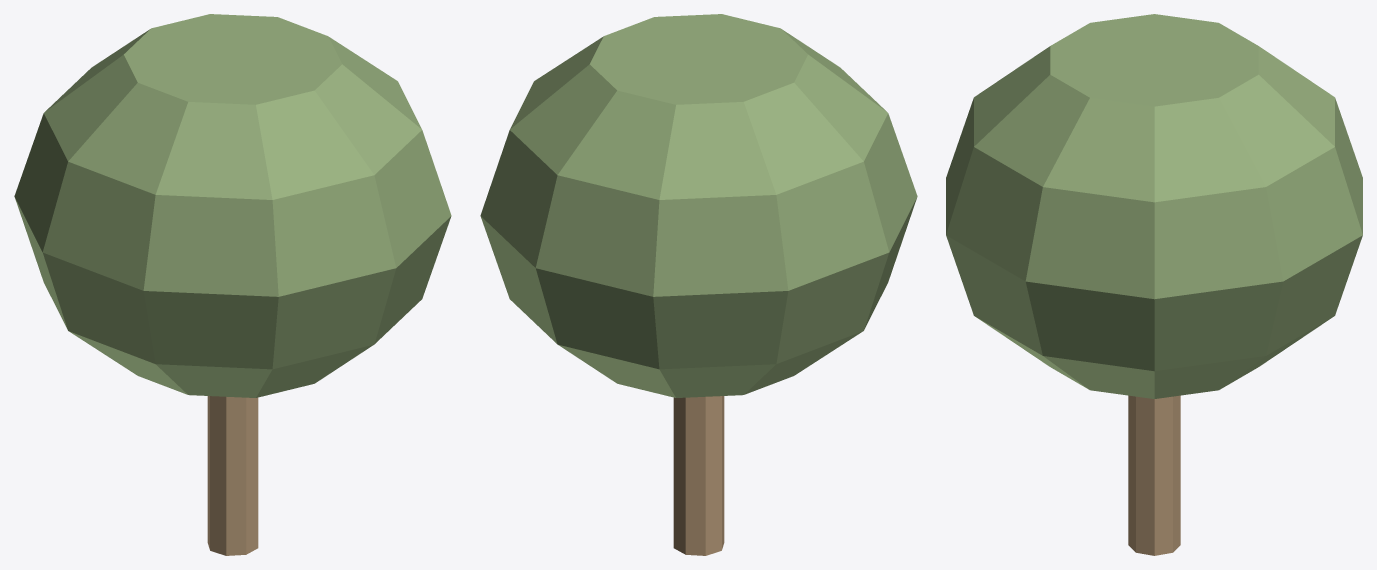
Rendered from oak-arch-9.glb.
3 views of the same model, side by side, from view 1: azimuth 30°, elevation 25°; view 2: azimuth 150°, elevation 25°; view 3: azimuth 270°, elevation 25° (orthographic).
Parts seen in each view (by area): view 1: living roof, timber; view 2: living roof, timber; view 3: living roof, timber.
Boxes of the visible parts, x1,y1,x2,y2 form: living roof: [14, 14, 451, 397]; timber: [207, 396, 258, 555]; living roof: [480, 14, 917, 397]; timber: [673, 396, 724, 555]; living roof: [946, 14, 1362, 398]; timber: [1128, 395, 1180, 555].
Bounding box in the file's own units: 10.78 × 13.76 × 10.25.
